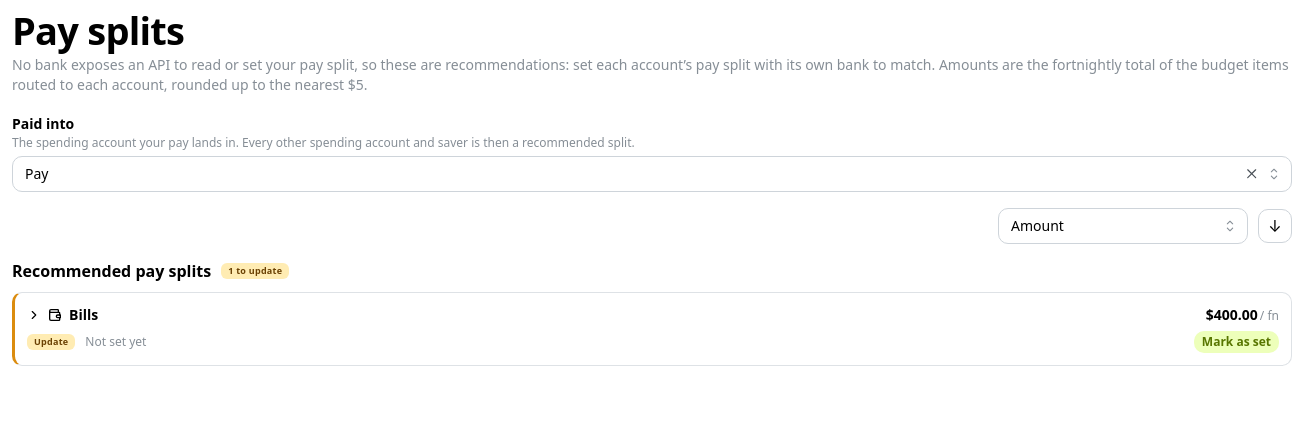
it: SplitsScreen › expands a recommended account row to the budget lines behind its total
Click the button "Bills" at (34, 315), box [27, 305, 1194, 325]
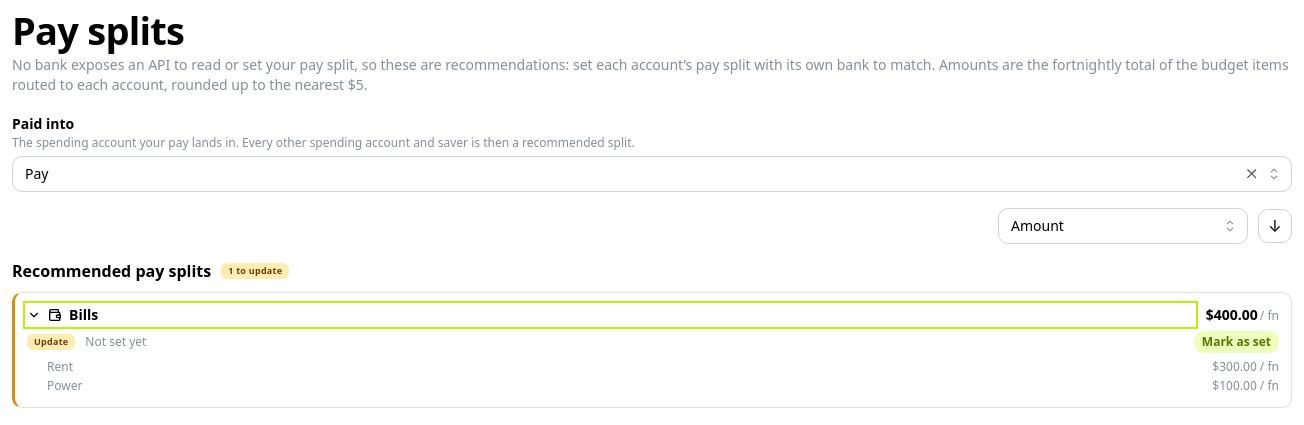
Now the button "Bills" is expanded, box [27, 305, 1194, 325]
Now the text "Rent" is shown, box [47, 359, 73, 376]
Now the text "Power" is shown, box [47, 378, 82, 395]
